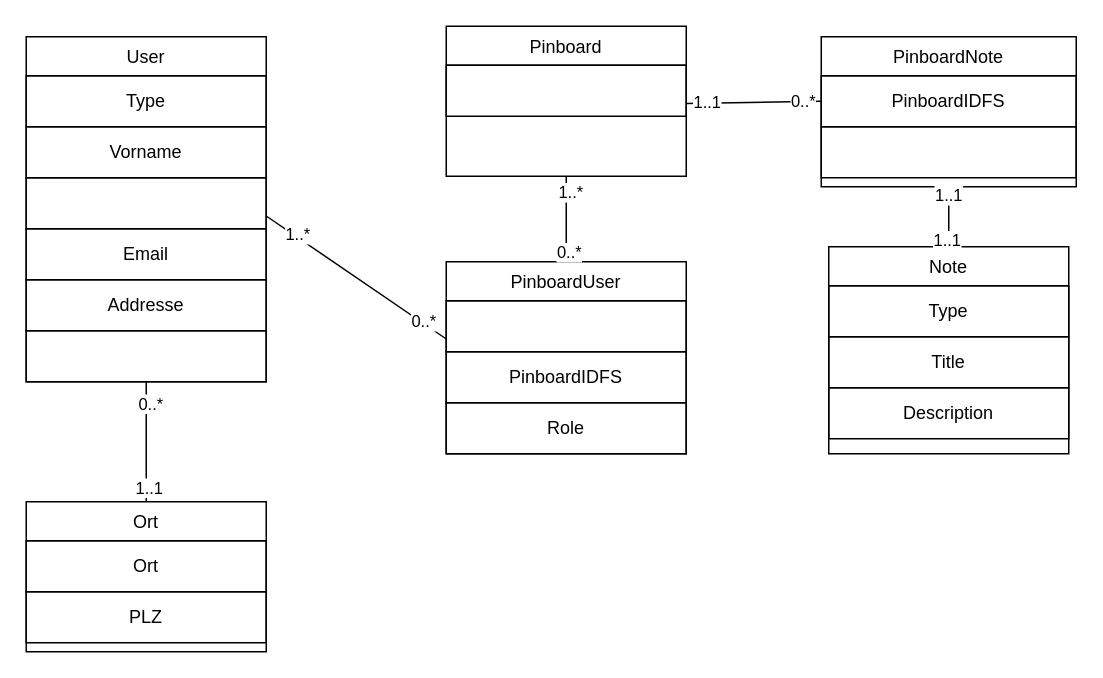
Some shapes in this 1103 by 678 pixel diagram are drawn without their labels. The shapes that lost their labels are listed below. From the top down, each one's centre as x and y in pixels, then its label:
At (948,151): "NoteIDFS".
At (145,202): "Nachname".
At (565,325): "UserIDFS".
At (145,355): "Passwort".
